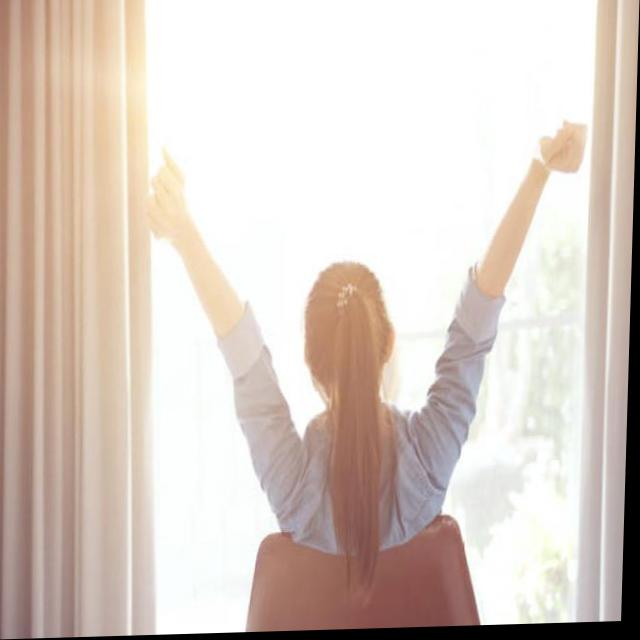no helmet: (286, 225, 418, 619)
